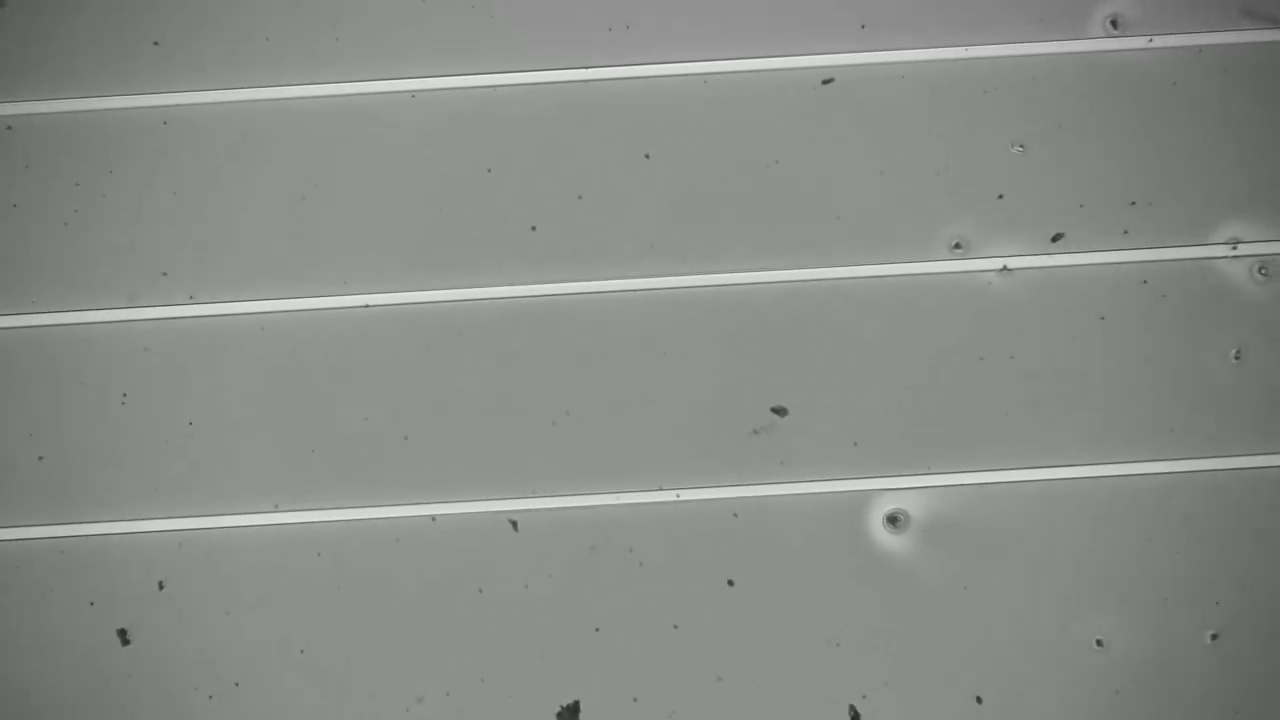stains_enbedded: (992, 247, 1020, 279)
